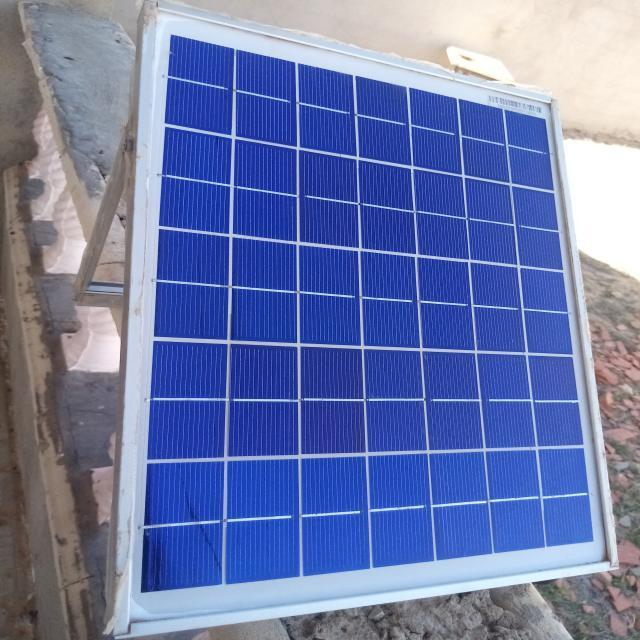no faulty: (123, 6, 615, 632)
